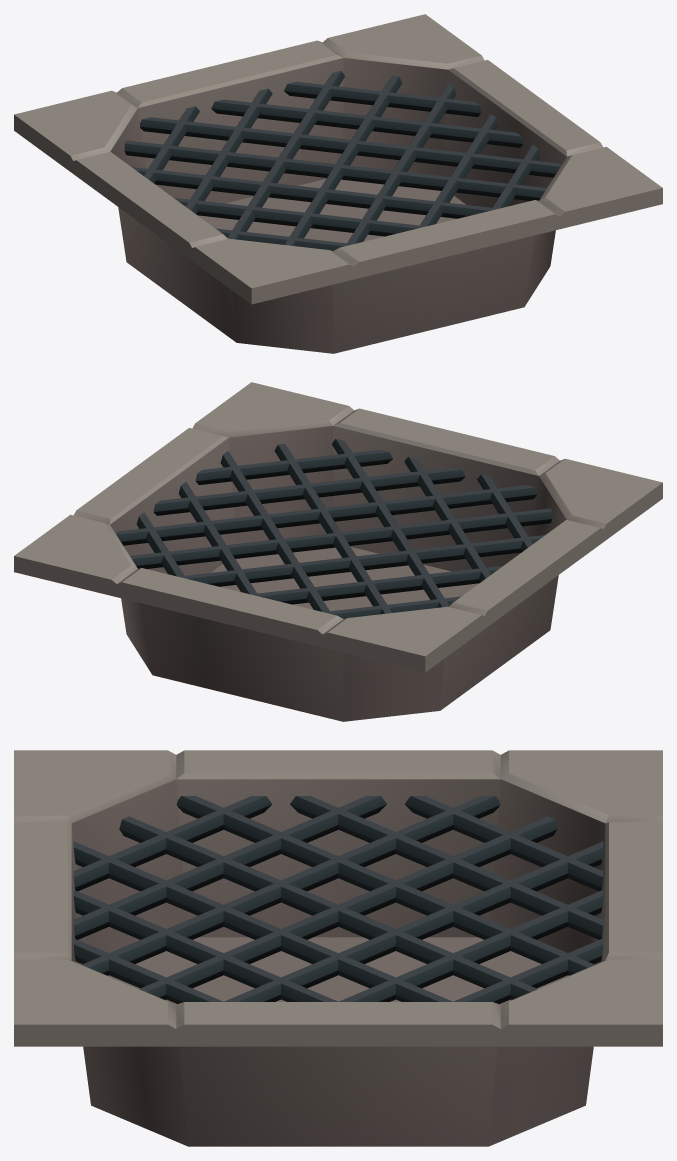
The model's file is floor_tile_big_grate.obj.
The picture shows the model from 3 angles, top to bottom: view 1: azimuth 30°, elevation 25°; view 2: azimuth 150°, elevation 25°; view 3: azimuth 270°, elevation 25°; orthographic projection. The views are drawn at different scales.
Parts seen in each view (by area): view 1: floor_tile_big_grate; view 2: floor_tile_big_grate; view 3: floor_tile_big_grate.
Part boxes in pixels (x1,y1,x2,y2): floor_tile_big_grate: [14, 14, 662, 353]; floor_tile_big_grate: [14, 382, 662, 721]; floor_tile_big_grate: [14, 750, 662, 1146].
Bounding box in the file's own units: 4 × 1.05 × 4.
Materials: 1 (1 with a texture image).
